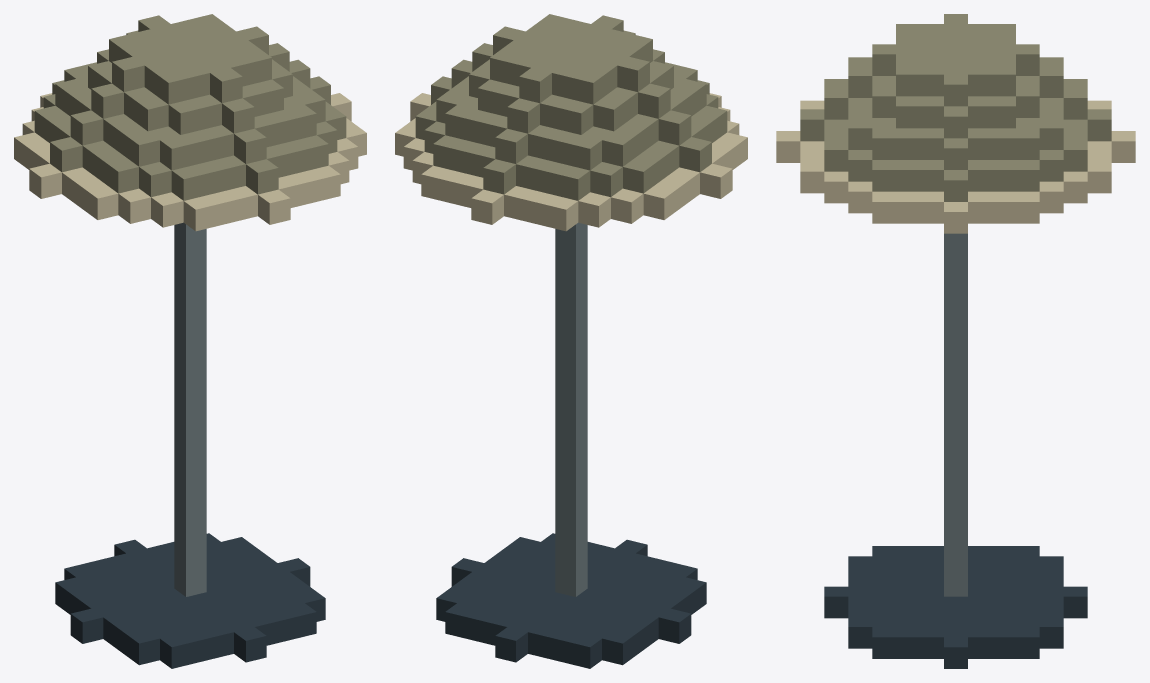
The model's file is civic-03.glb.
3 views of the same model, side by side, from view 1: azimuth 30°, elevation 25°; view 2: azimuth 150°, elevation 25°; view 3: azimuth 270°, elevation 25° (orthographic).
Visible parts, largest first — view 1: Street lamp; view 2: Street lamp; view 3: Street lamp.
Part boxes in pixels (box(x1,y1,x2,y2)): Street lamp: box(14, 14, 366, 668); Street lamp: box(395, 14, 747, 668); Street lamp: box(776, 14, 1135, 668).
Size of the model in its own units: 1.2 by 2.08 by 1.2.
